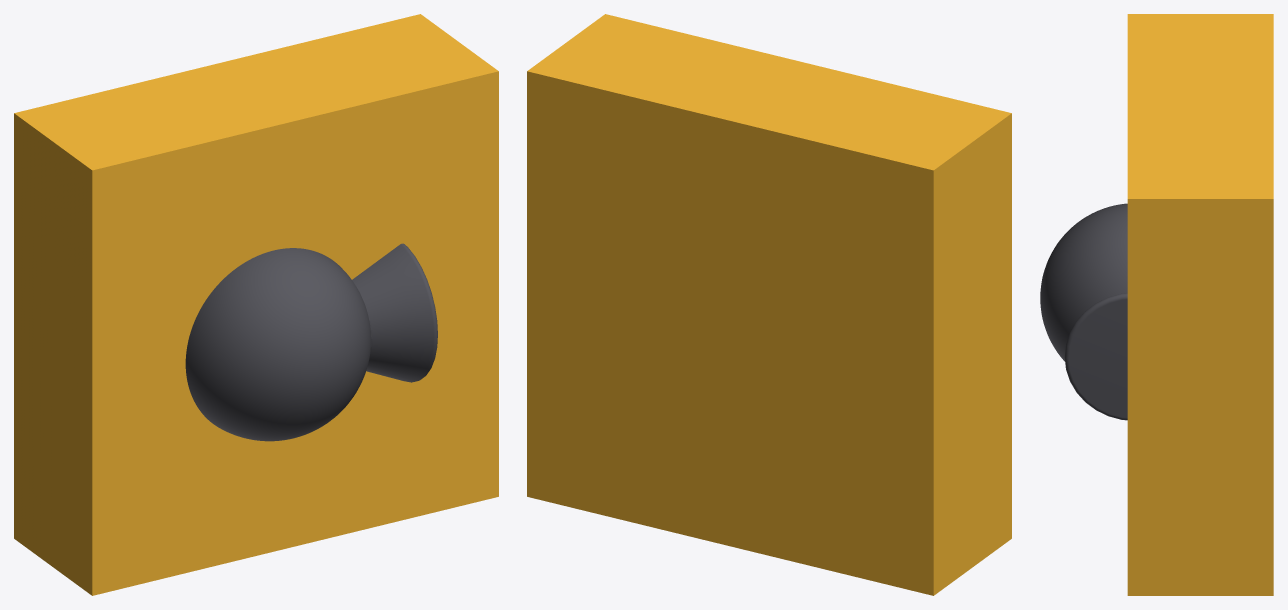
Rendered from cannon.gltf.
The picture shows the model from 3 angles, left to right: view 1: azimuth 30°, elevation 25°; view 2: azimuth 150°, elevation 25°; view 3: azimuth 270°, elevation 25°; orthographic projection. The views are drawn at different scales.
Visible parts, largest first — view 1: Cube, Boolean; view 2: Cube; view 3: Cube, Boolean.
Part boxes in pixels (x1,y1,x2,y2): Cube: (14,14,498,595); Boolean: (185,243,437,441); Cube: (527,14,1011,595); Cube: (1127,14,1273,595); Boolean: (1040,203,1127,420).
Size of the model in its own units: 3 by 3 by 1.6.
